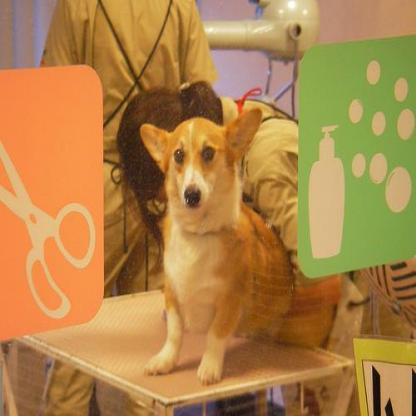Pembroke: (138, 105, 294, 384)
